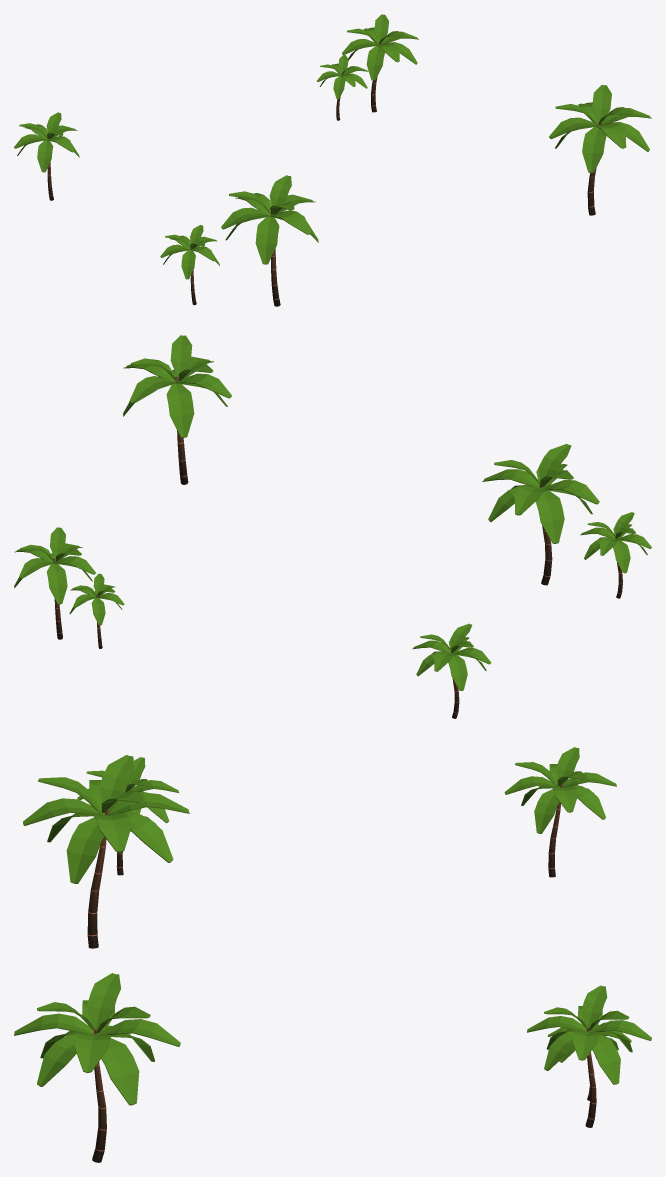
File: all trees .fbx
3 views of the same model, one above another, from view 1: azimuth 30°, elevation 25°; view 2: azimuth 150°, elevation 25°; view 3: azimuth 270°, elevation 25° (orthographic). The views are drawn at different scales.
Visible parts, largest first — view 1: Cylinder.012; view 2: Cylinder.012; view 3: Cylinder.012.
Boxes of the visible parts, bbox=[...] form: Cylinder.012: bbox=[14, 14, 651, 306]; Cylinder.012: bbox=[14, 335, 651, 718]; Cylinder.012: bbox=[14, 747, 651, 1162].
Size of the model in its own units: 133 by 32.94 by 102.
Materials: 1 (1 with a texture image).
